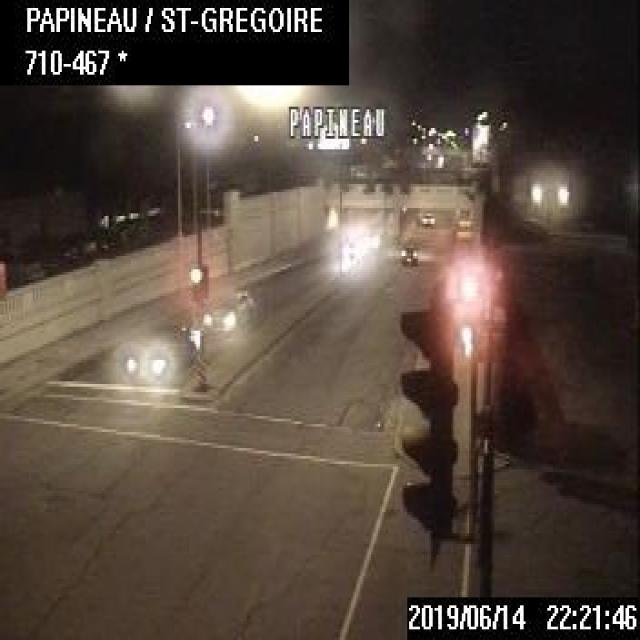vehicle: (122, 323, 198, 376), (202, 285, 254, 331), (398, 239, 417, 263), (418, 210, 436, 227)
